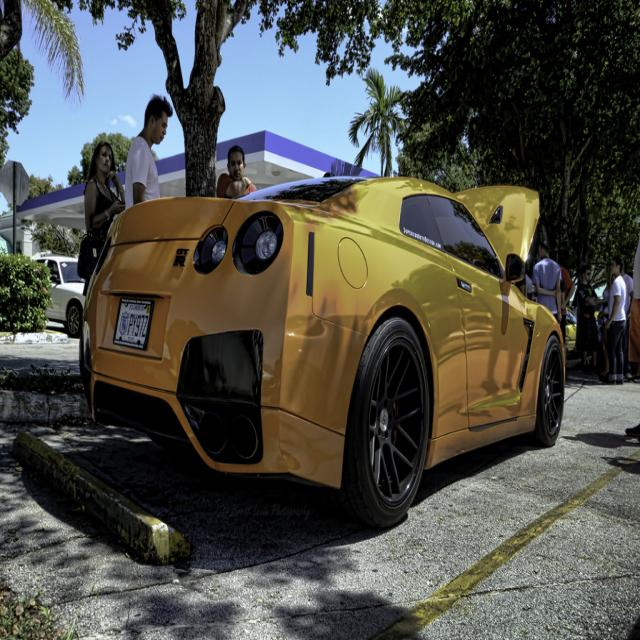car: (78, 176, 566, 526)
